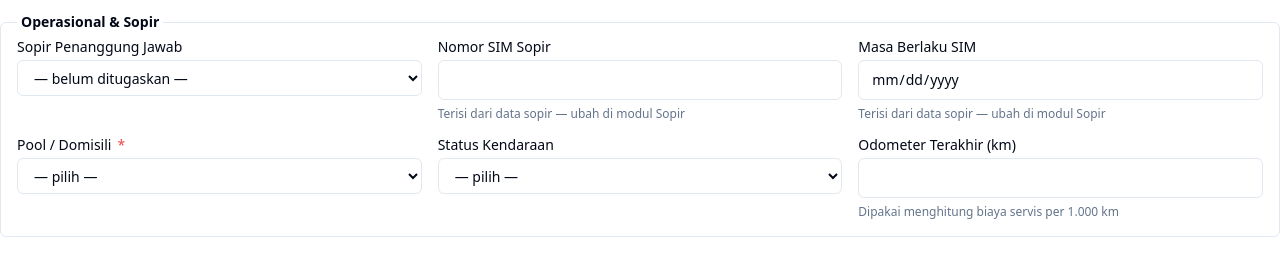
Test: OperationalSection › fills the SIM fields from the chosen driver
Select "Ahmad Fauzi" in the dropdown labelled "Sopir Penanggung Jawab" at x=219, y=78, box [17, 60, 422, 96]
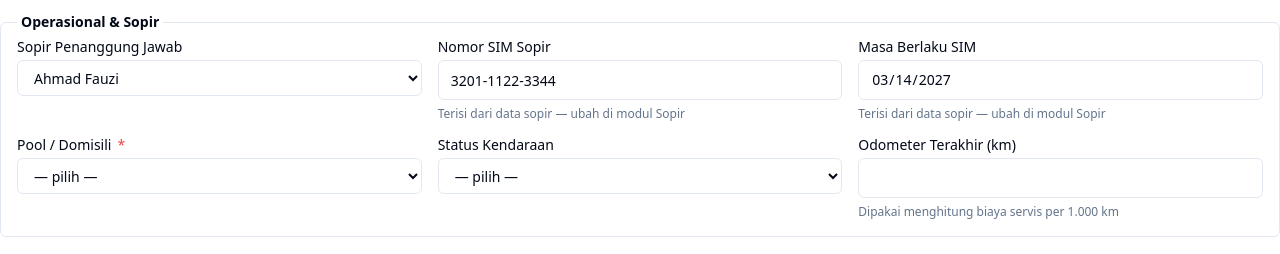
Expected: the field labelled "Nomor SIM Sopir" holds "3201-1122-3344", [438, 60, 842, 100]
Expected: the date field labelled "Masa Berlaku SIM" holds "2027-03-14", [858, 60, 1263, 100]
